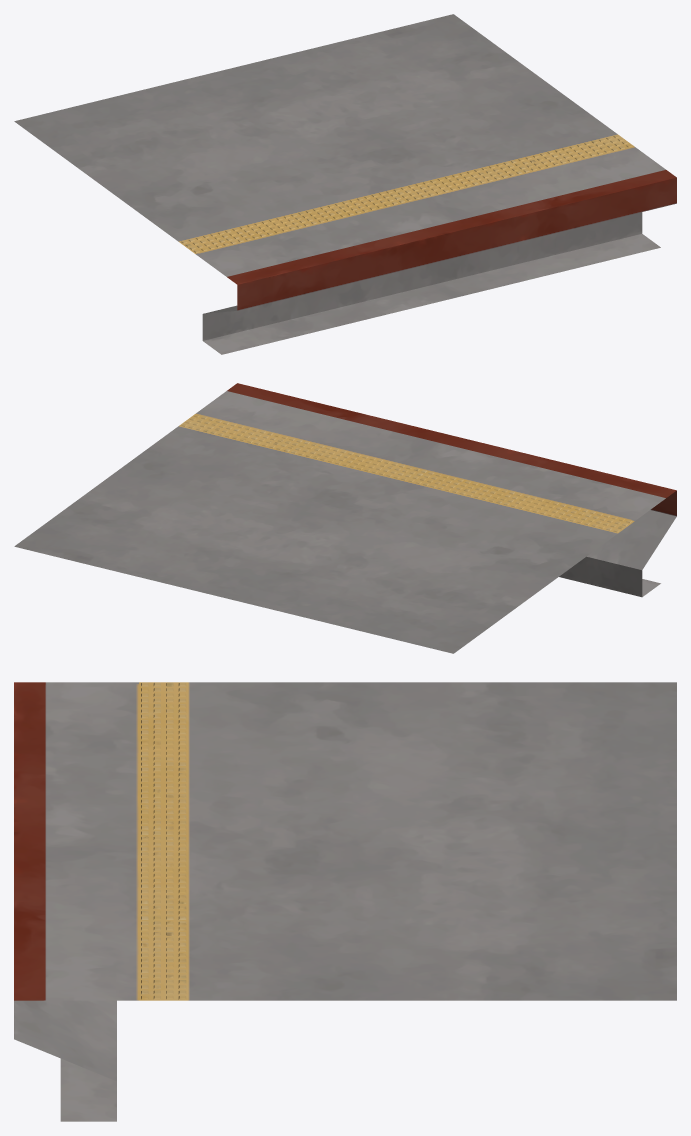
The model's file is Platform_floor.fbx.
3 views of the same model, one above another, from view 1: azimuth 30°, elevation 25°; view 2: azimuth 150°, elevation 25°; view 3: azimuth 270°, elevation 25° (orthographic). The views are drawn at different scales.
Visible parts, largest first — view 1: PlatformFloor; view 2: PlatformFloor; view 3: PlatformFloor.
Part boxes in pixels (left/top/right/bottom): PlatformFloor: left=14, top=14, right=676, bottom=354; PlatformFloor: left=14, top=383, right=676, bottom=653; PlatformFloor: left=14, top=682, right=676, bottom=1121.
Bounding box in the file's own units: 1000 × 179 × 880.
Materials: 1 (1 with a texture image).
